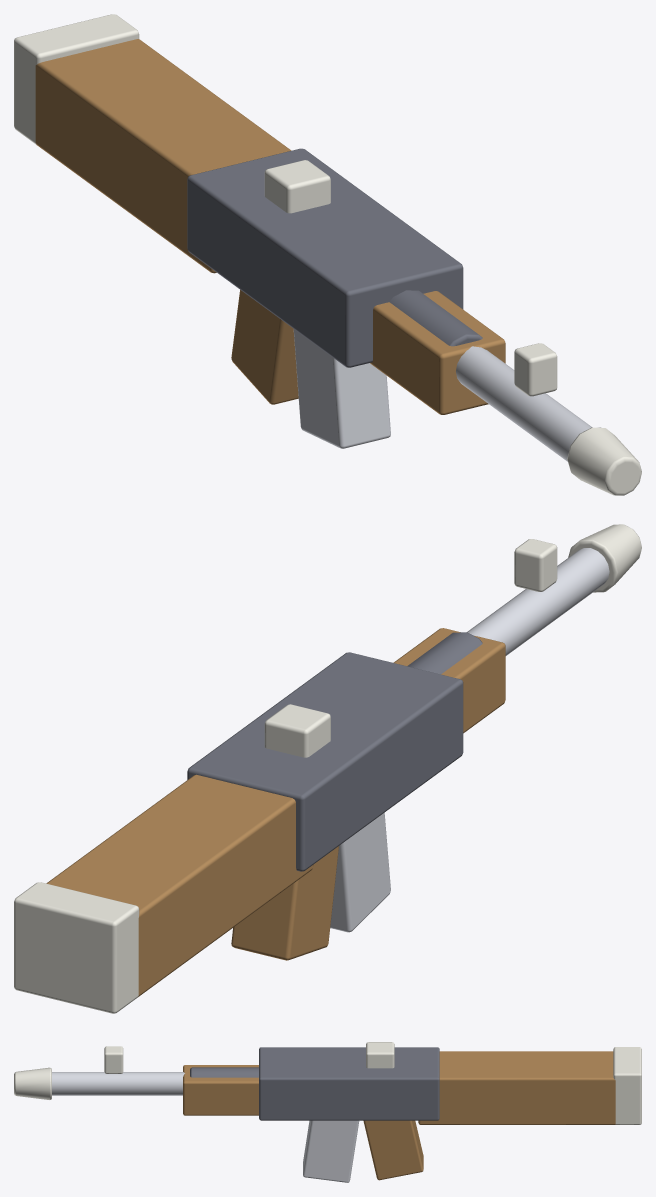
The model's file is weapon_rifle.glb.
The picture shows the model from 3 angles, top to bottom: view 1: azimuth 30°, elevation 25°; view 2: azimuth 150°, elevation 25°; view 3: azimuth 270°, elevation 25°; orthographic projection. The views are drawn at different scales.
Visible parts, largest first — view 1: Receiver, Stock, Foregrip, Magazine, Barrel, ShoulderPad, Grip, MuzzleBrake, SightRear, BarrelShroud, SightFront; view 2: Receiver, Stock, ShoulderPad, Grip, Barrel, Magazine, Foregrip, SightRear, MuzzleBrake, SightFront, BarrelShroud; view 3: Stock, Receiver, Foregrip, Barrel, Magazine, Grip, ShoulderPad, MuzzleBrake, SightRear, BarrelShroud, SightFront.
Part boxes in pixels (bbox=[...]): Receiver: bbox=[187, 148, 463, 367]; Stock: bbox=[35, 39, 291, 273]; Foregrip: bbox=[370, 291, 505, 414]; Magazine: bbox=[293, 329, 390, 448]; Barrel: bbox=[456, 346, 592, 461]; ShoulderPad: bbox=[14, 14, 139, 144]; Grip: bbox=[231, 290, 298, 404]; MuzzleBrake: bbox=[567, 427, 641, 495]; SightRear: bbox=[264, 160, 330, 213]; BarrelShroud: bbox=[389, 290, 482, 346]; SightFront: bbox=[514, 343, 557, 396]; Receiver: bbox=[187, 652, 463, 871]; Stock: bbox=[46, 774, 313, 996]; ShoulderPad: bbox=[14, 882, 139, 1013]; Grip: bbox=[231, 846, 338, 960]; Barrel: bbox=[467, 548, 609, 655]; Magazine: bbox=[330, 813, 390, 932]; Foregrip: bbox=[393, 628, 505, 733]; SightRear: bbox=[264, 704, 330, 757]; MuzzleBrake: bbox=[568, 524, 641, 592]; SightFront: bbox=[514, 539, 557, 591]; BarrelShroud: bbox=[407, 632, 482, 674]; Stock: bbox=[418, 1051, 615, 1124]; Receiver: bbox=[259, 1047, 439, 1120]; Foregrip: bbox=[183, 1065, 258, 1115]; Barrel: bbox=[52, 1072, 184, 1095]; Magazine: bbox=[303, 1120, 359, 1182]; Grip: bbox=[363, 1120, 423, 1180]; ShoulderPad: bbox=[613, 1047, 641, 1124]; MuzzleBrake: bbox=[14, 1067, 51, 1099]; SightRear: bbox=[366, 1042, 394, 1068]; BarrelShroud: bbox=[190, 1067, 258, 1077]; SightFront: bbox=[104, 1046, 123, 1073].
Bounding box in the file's own units: 0.32 × 0.6006 × 2.64.
